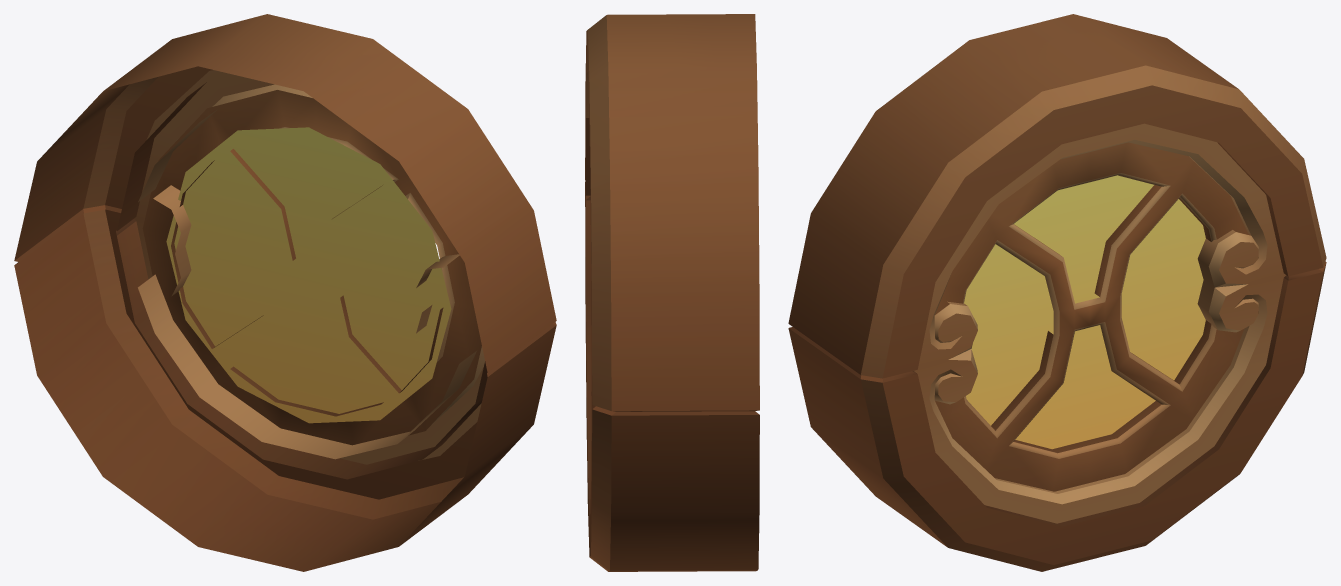
The model's file is window 1.fbx.
3 views of the same model, side by side, from view 1: azimuth 30°, elevation 25°; view 2: azimuth 150°, elevation 25°; view 3: azimuth 270°, elevation 25° (orthographic). The views are drawn at different scales.
Parts seen in each view (by area): view 1: window; view 2: window; view 3: window.
Part boxes in pixels (x1,y1,x2,y2): window: (14, 14, 556, 571); window: (585, 14, 759, 571); window: (788, 14, 1326, 571).
Bounding box in the file's own units: 22.62 × 29.45 × 29.91.
